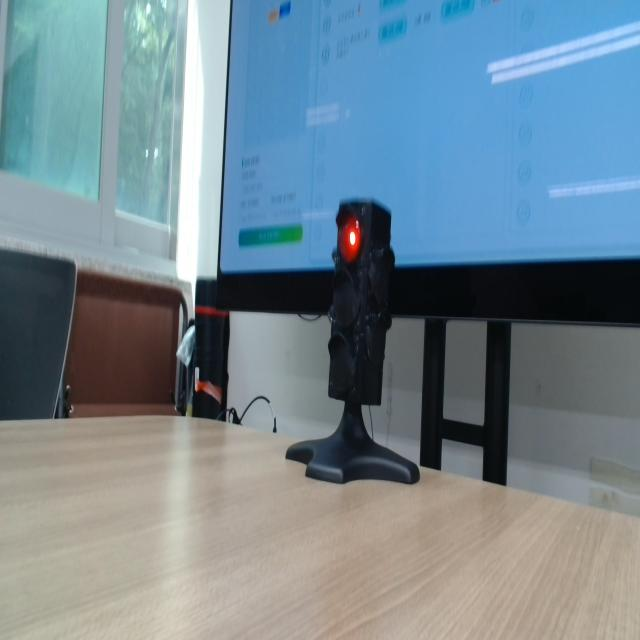red_light: (338, 216, 361, 263)
